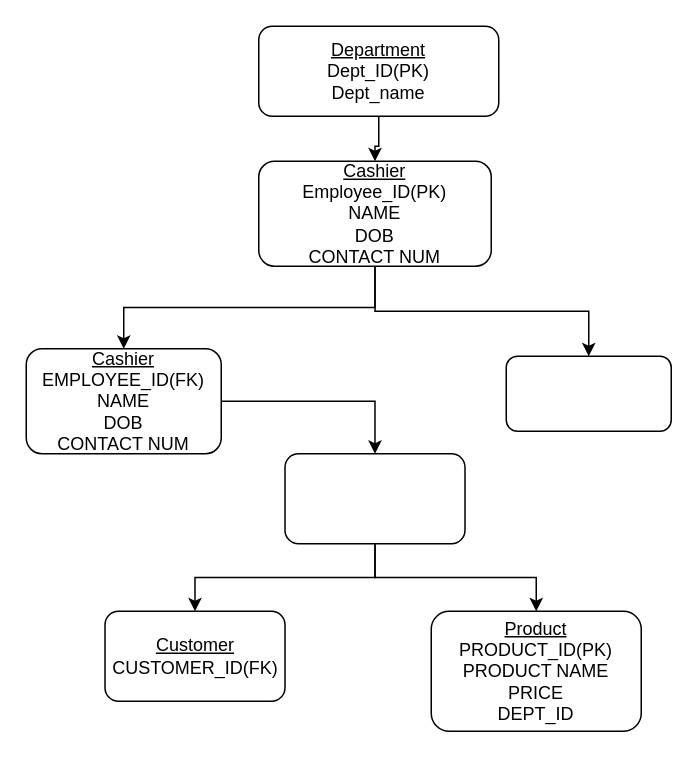
The diagram is 698 pixels wide and 758 high, and some of its shapes have lost their labels. Each missing label, with the centre of its shape:
Customer CUSTOMER_ID(PK) NAME CONTACT NUM: (x=374, y=498)
Department DEPT_ID(FK) DEPT_NAME: (x=588, y=393)
